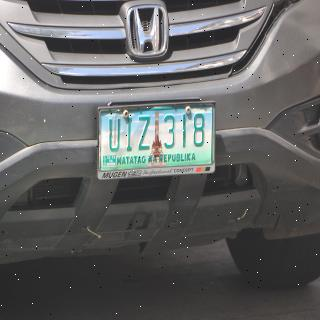license: (99, 104, 216, 180)
